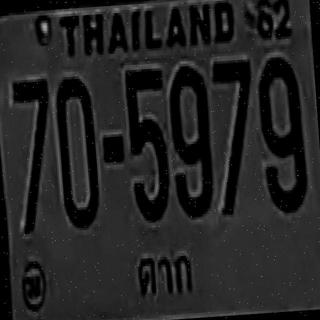P69: (118, 233, 210, 315)
